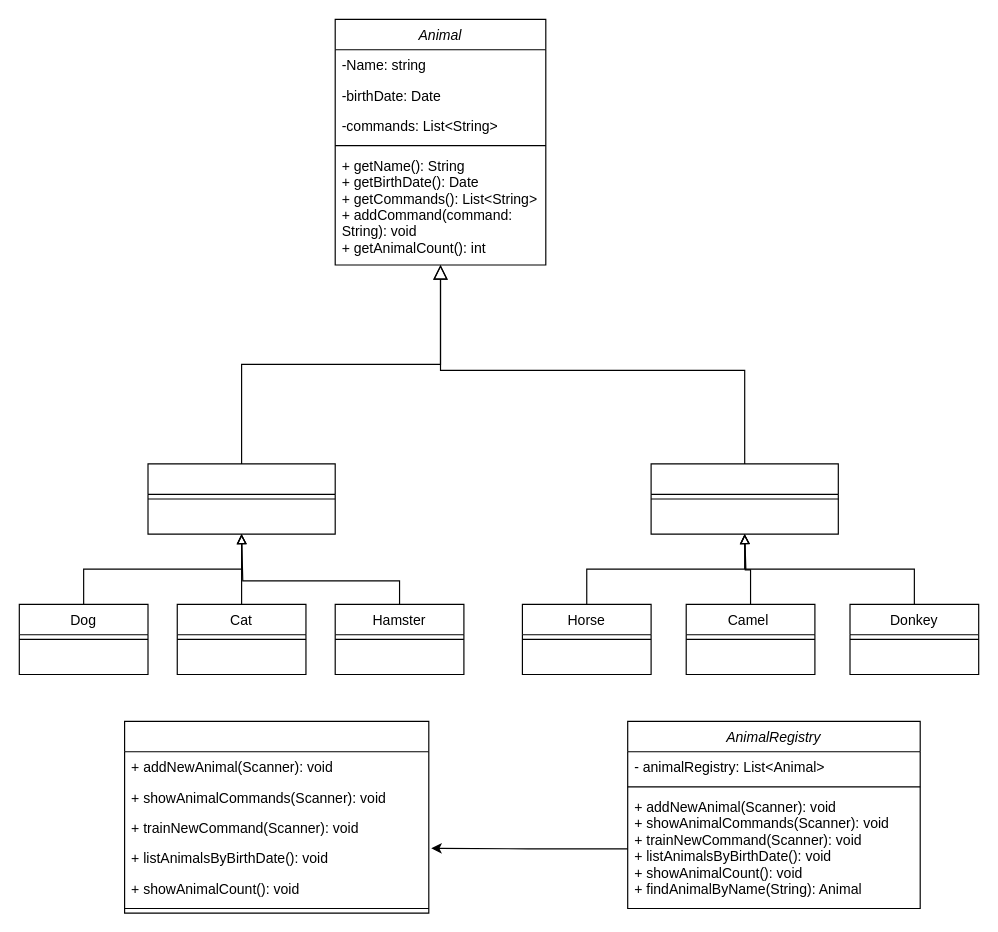
Image size: 998x932. Some labels were removed from this diagram. Each missing label, with the box of its shape:
AnimalRegistryInterface: (123, 720, 429, 913)
PackAnimal: (650, 463, 838, 534)
Pet: (147, 463, 335, 534)
